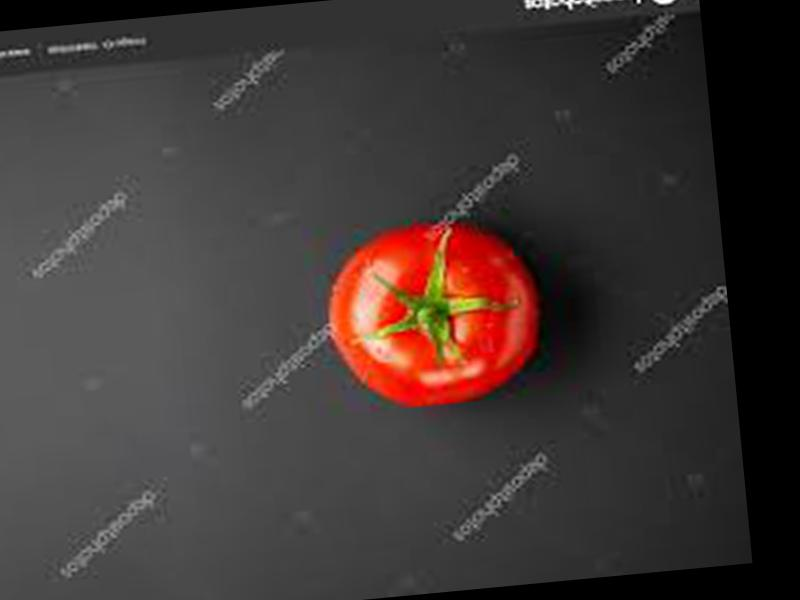Tomato: (317, 213, 546, 416)
